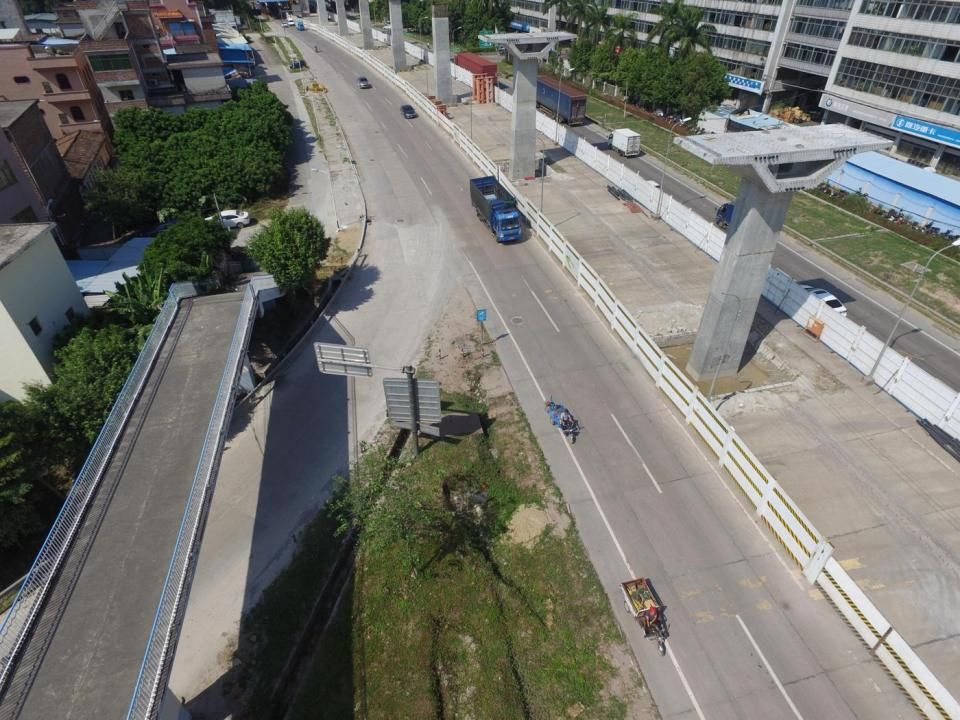car: (797, 285, 847, 318), (197, 210, 251, 229), (401, 104, 418, 119), (357, 77, 370, 88), (290, 61, 306, 68), (384, 24, 392, 30), (281, 22, 287, 27)
truck: (470, 176, 520, 243), (714, 201, 752, 232), (606, 128, 641, 156), (295, 21, 304, 30)
van: (286, 18, 294, 25)
